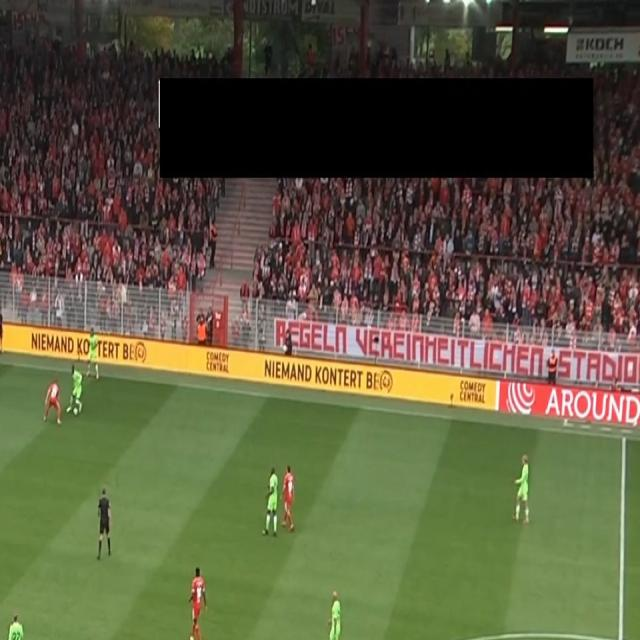ball: (72, 406, 80, 418)
